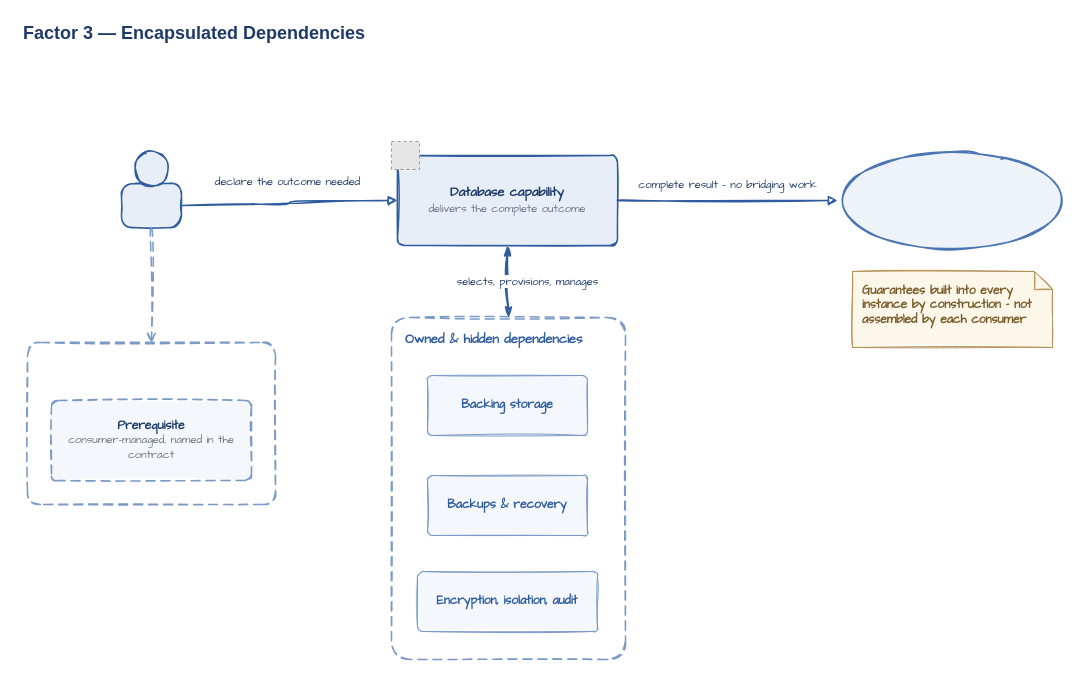
Image size: 1085x677. Some labels were removed from this diagram. Grey dashed boxes stand in for pictures. Here are the shapes that lost their labels. From the top down, the box of each, then its label:
(120, 182, 182, 228): Consumer
(836, 149, 1068, 251): Working database connection details & credentials included
(26, 341, 276, 505): Stays the consumer's responsibility
